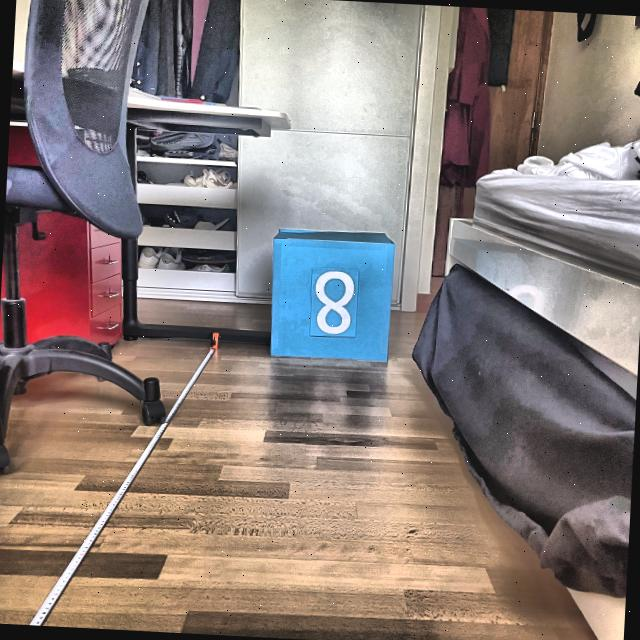blue box: (264, 225, 400, 364)
eight: (312, 269, 356, 336)
